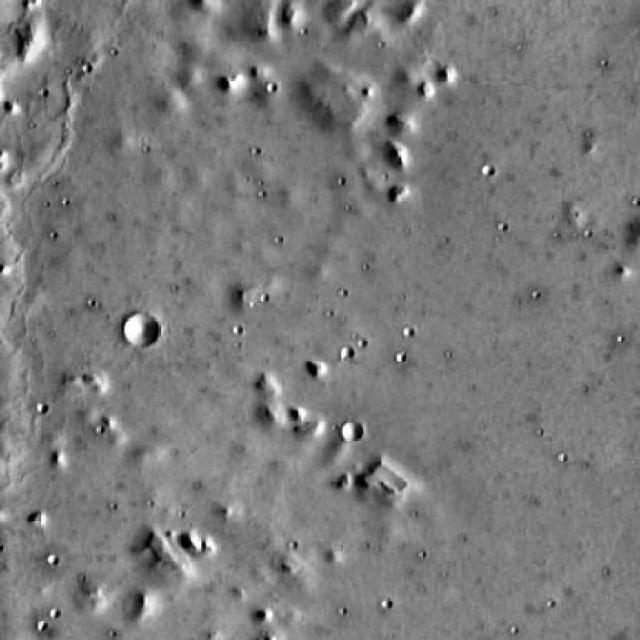crater: (123, 312, 159, 346), (340, 418, 363, 439)
